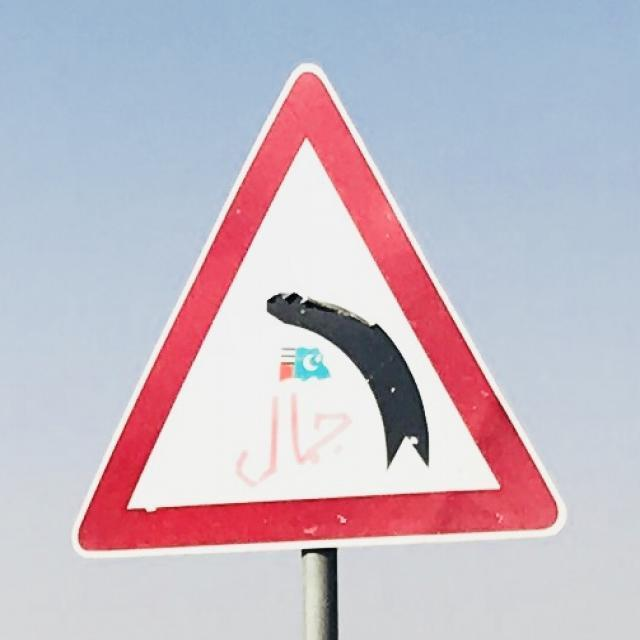left hand curve: (68, 48, 570, 562)
